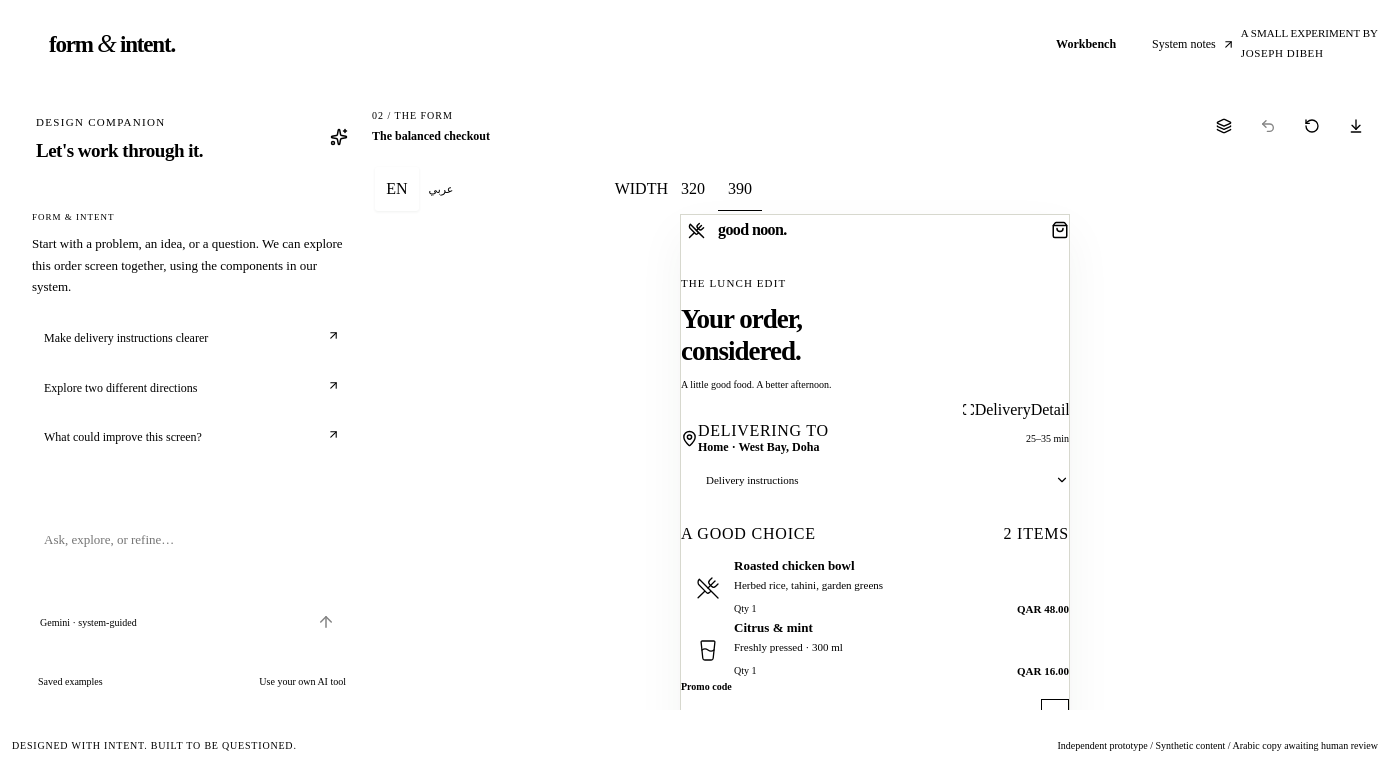
Test: dismissing a draft invalidates its pending refinement
Type "Compact please" into the text box named "Message the companion" at (192,561), box [40,526,344,596]
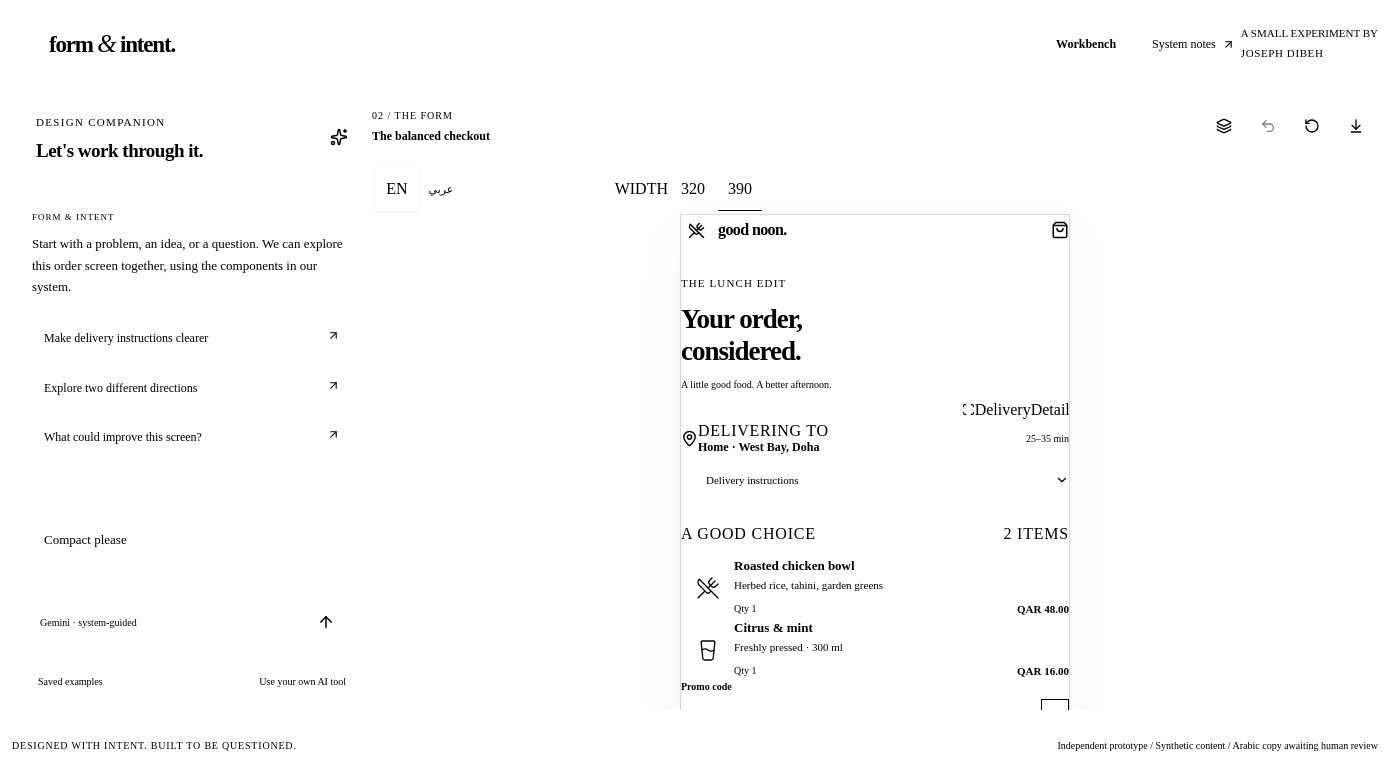
Click the button named "Send message" at (326,622), box [308,604,344,640]
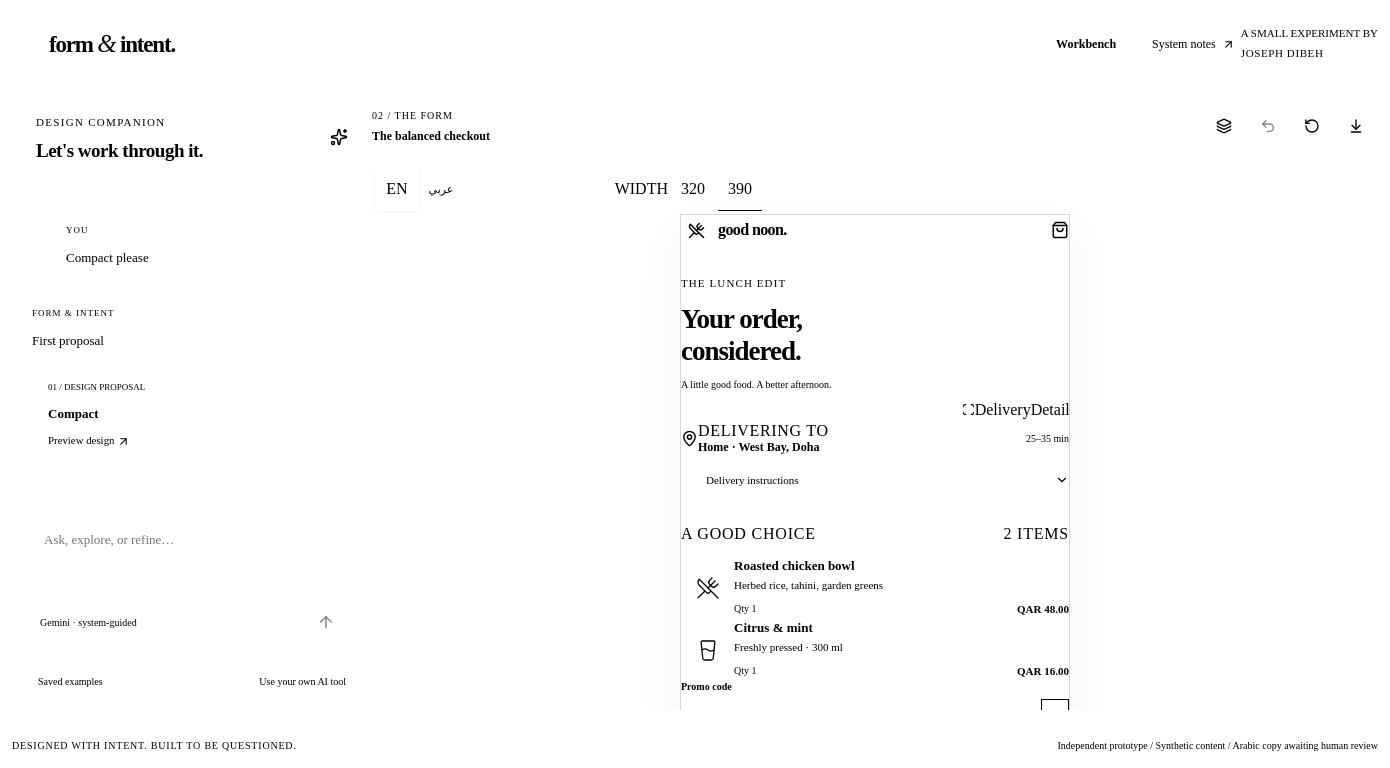
Now the text "First proposal" is shown, box [32,333,104,348]
Click the button with aria-label "Preview Compact" at (101,387), box [32,364,352,466]
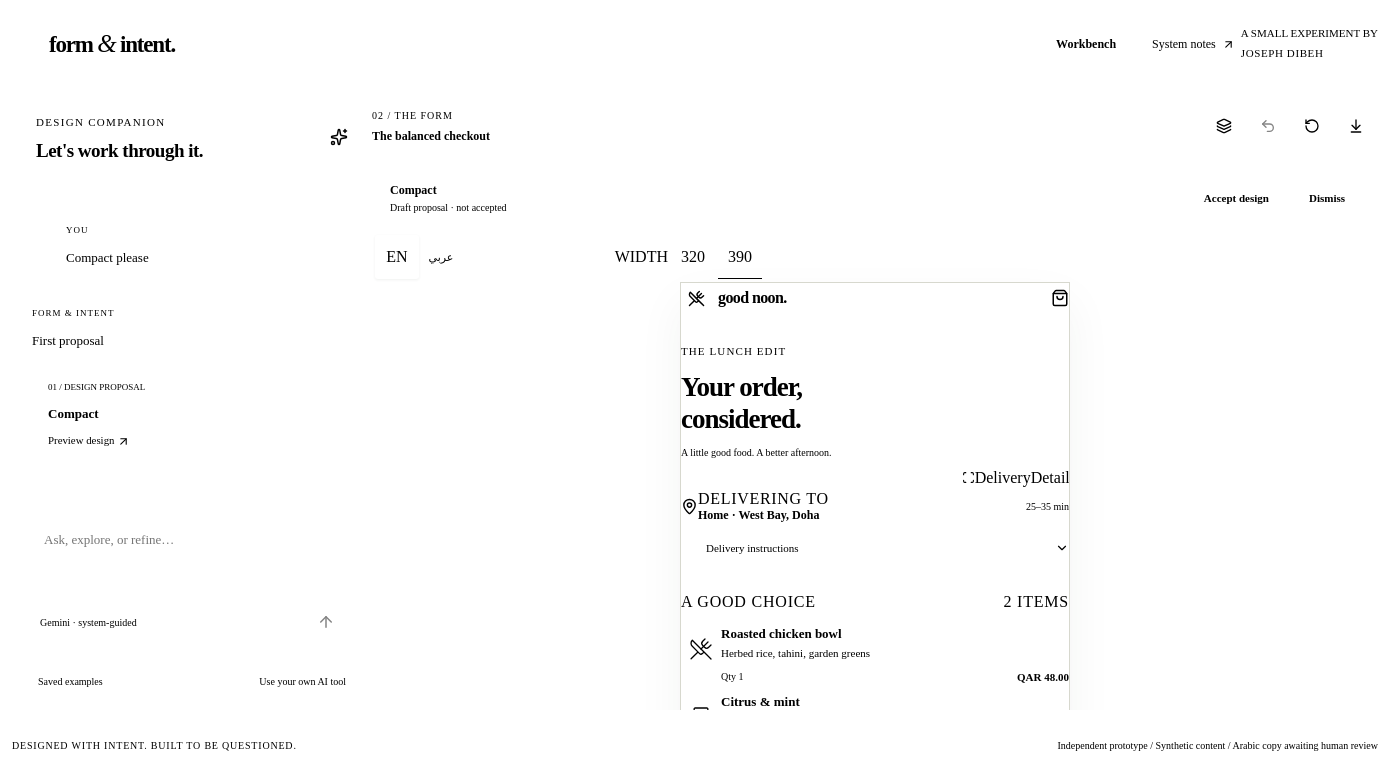
Type "Refine this" into the text box named "Message the companion" at (192,561), box [40,526,344,596]
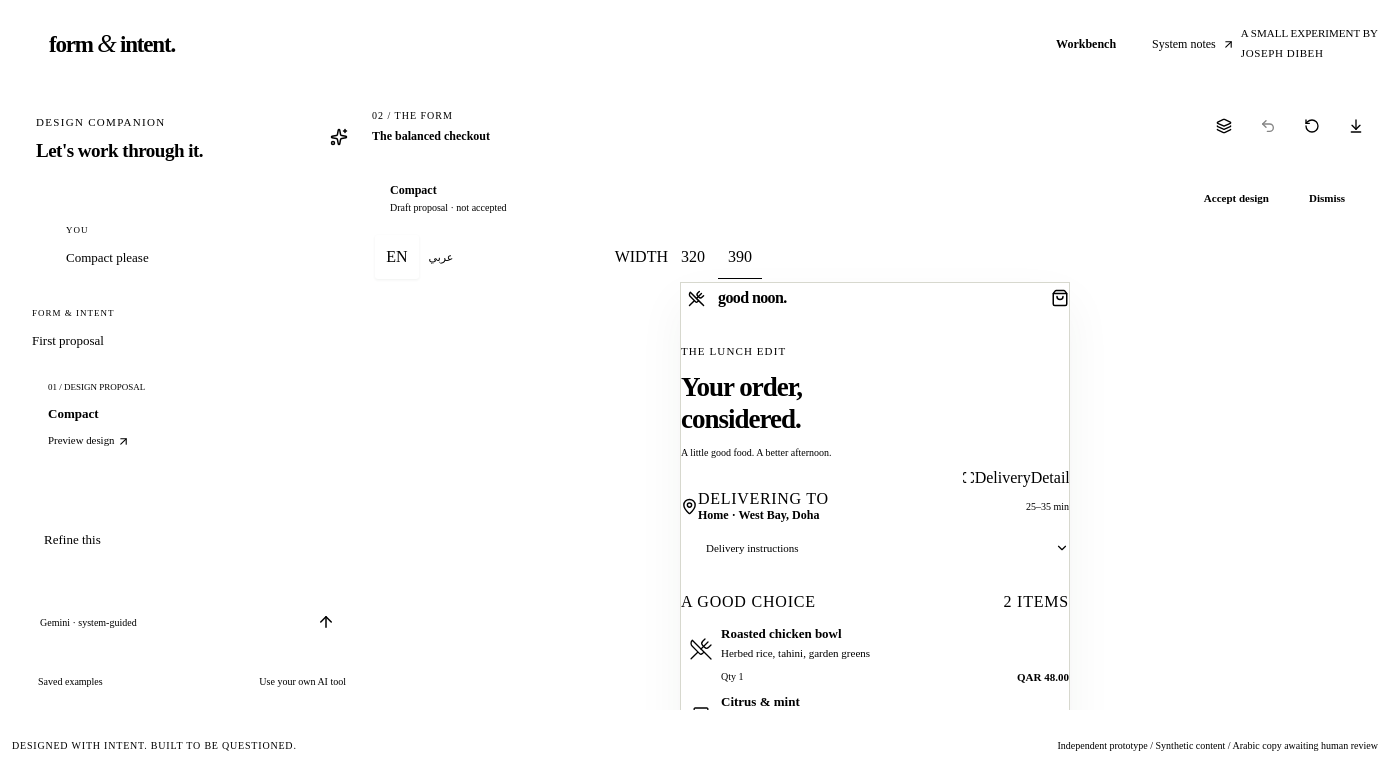
Click the button named "Send message" at (326,622), box [308,604,344,640]
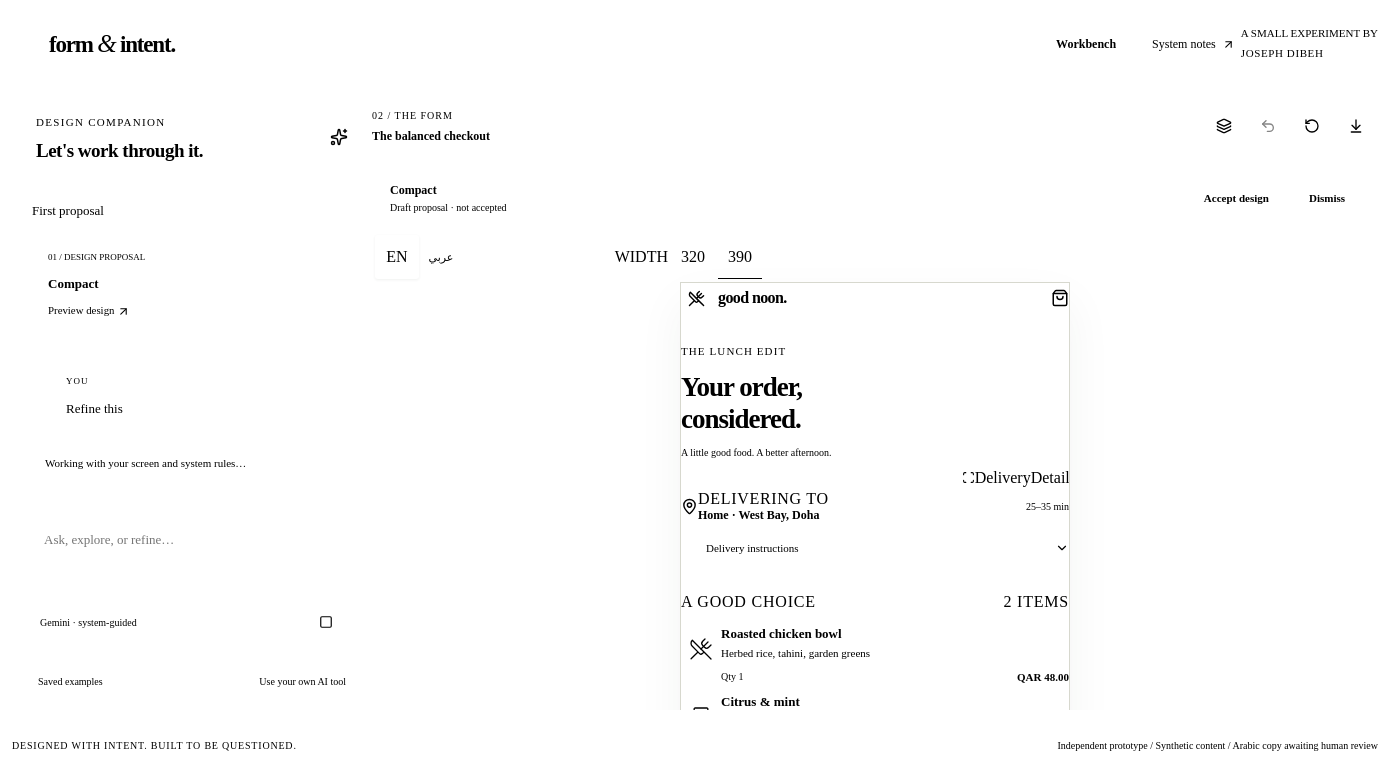
Click the button "Dismiss" at (1327,198), box [1294,176,1360,220]
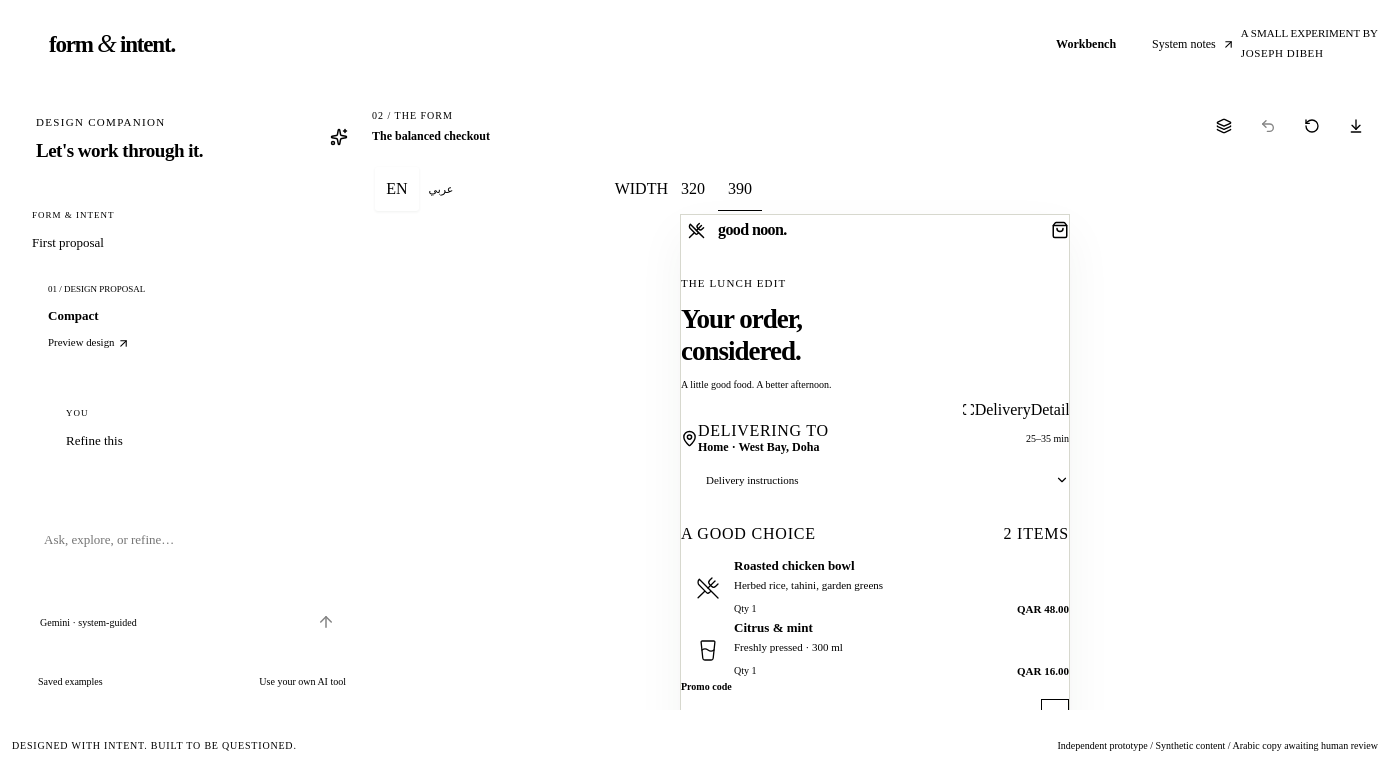
Now the text "Working with your screen and system rules…" is gone
